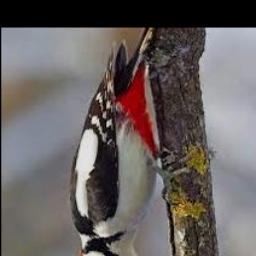Woodpecker: (69, 28, 182, 256)
